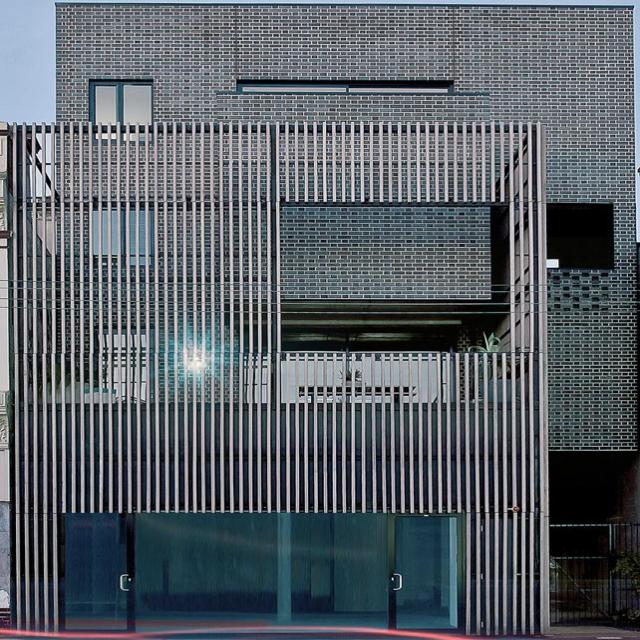Railing: (546, 556, 636, 624)
door: (56, 512, 452, 632)
wall: (0, 0, 633, 636)
windows: (232, 82, 446, 96), (87, 81, 153, 125)
